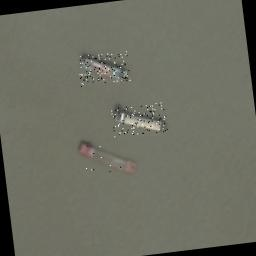boat: (76, 135, 138, 179), (110, 102, 168, 138), (77, 50, 130, 86)
